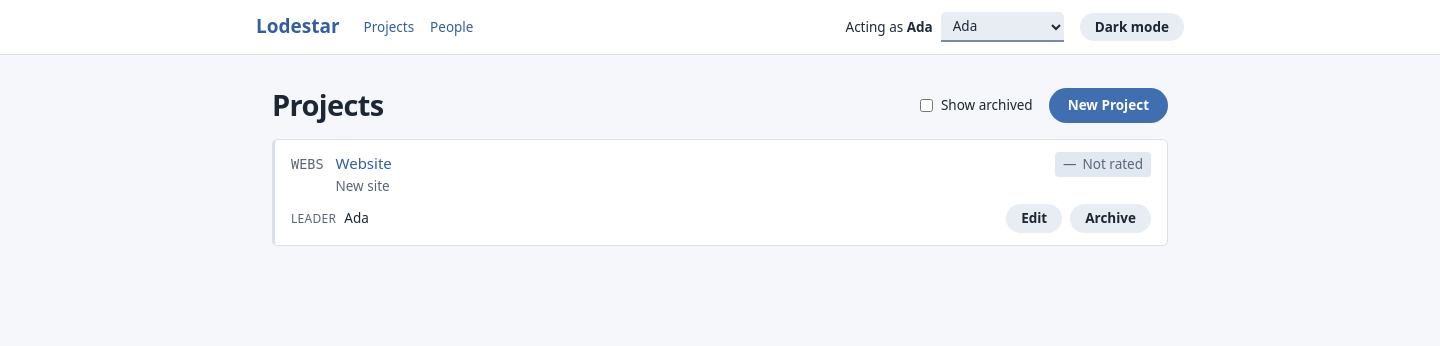
Test: Projects page › renames and describes a Project
The width and height of the screenshot is (1440, 346).
Click the button with aria-label "Edit Website" at (1034, 219), box [1006,204,1062,233]
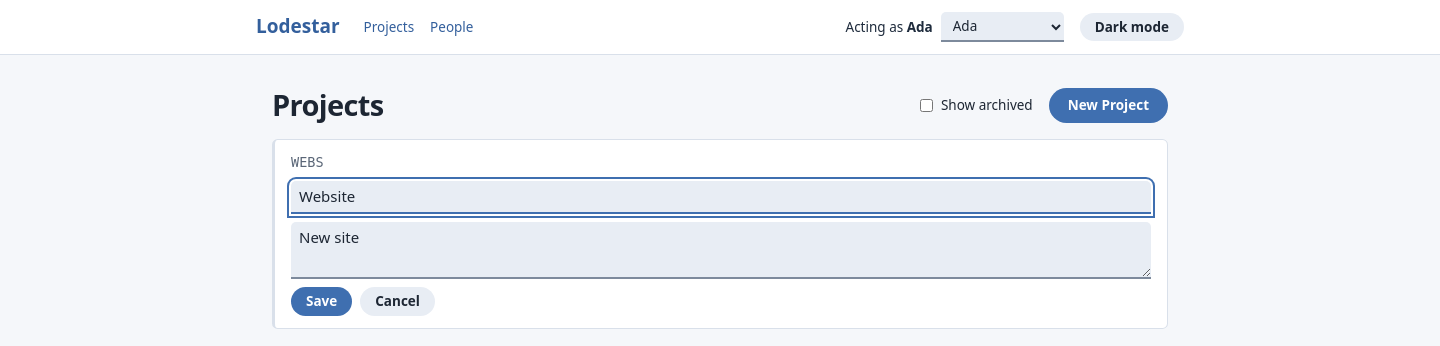
Replace the text in the field named "Name for Website" with "Web Rebuild" at (721, 198), box [291,181,1151,214]
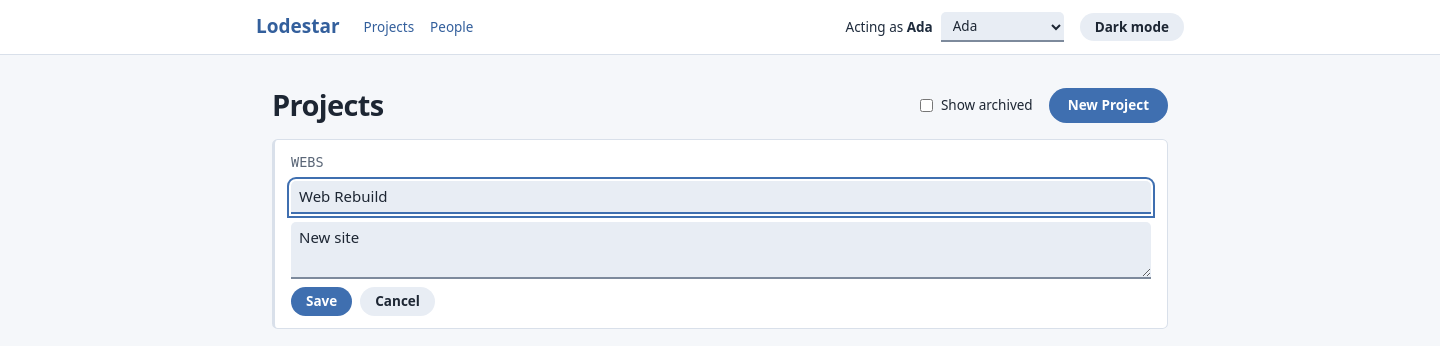
Clear the text box named "Description for Website" at (721, 251), box [291,222,1151,279]
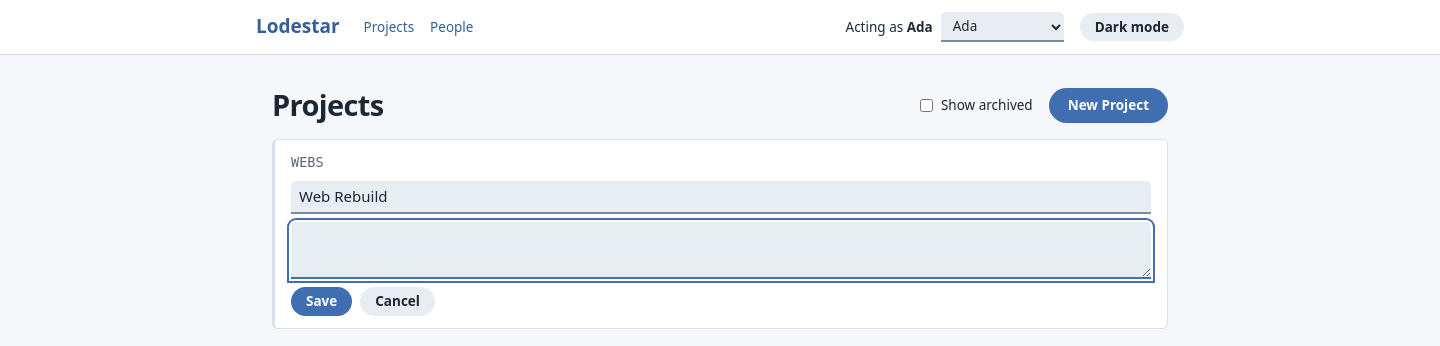
Click the button "Save" at (322, 301), box [291,287,352,316]
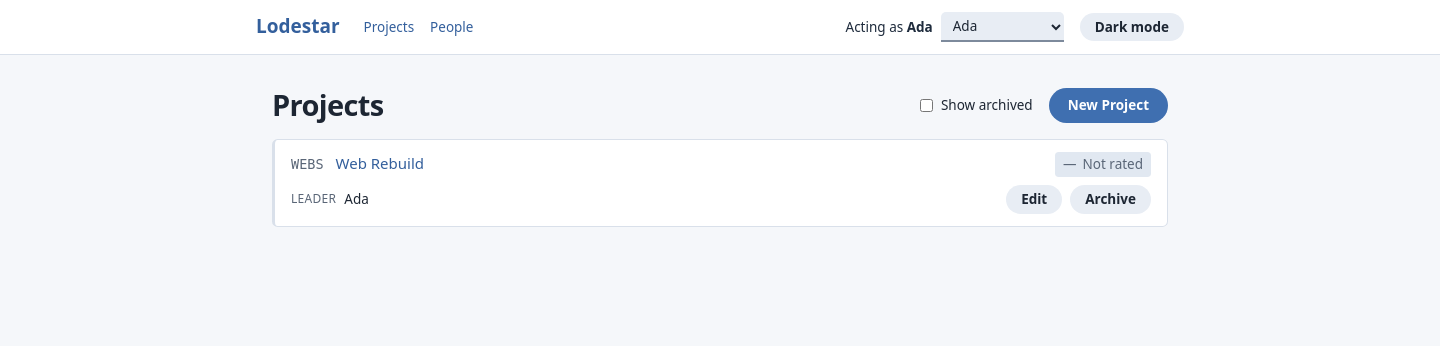
Expected: the button with aria-label "Edit Web Rebuild" is shown, [1006,185,1062,214]
